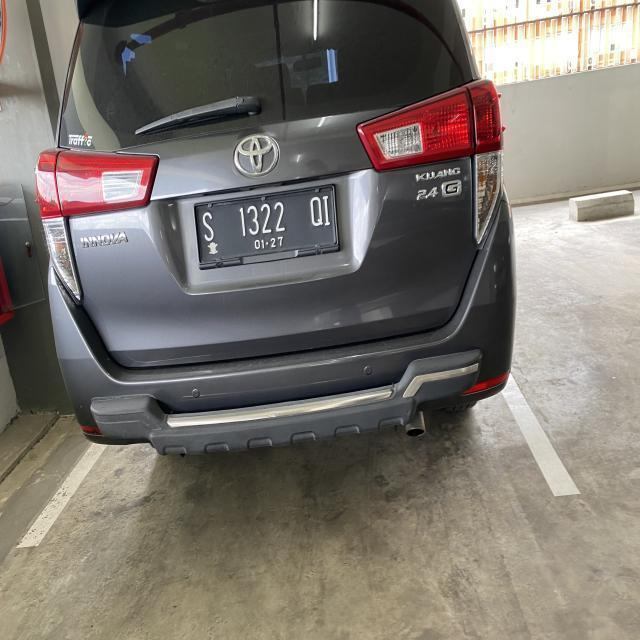1: (237, 204, 247, 241)
2: (272, 200, 290, 233), (260, 202, 272, 237)
3: (248, 205, 260, 238)
I: (323, 195, 331, 226)
Q: (310, 196, 322, 228)
S: (202, 208, 218, 243)
